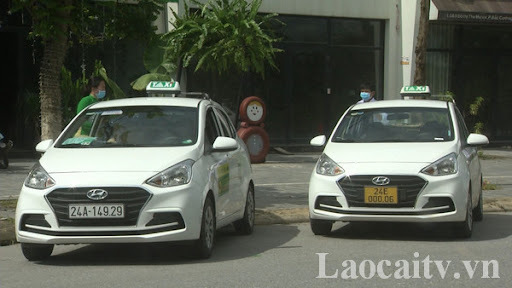number_plate: (67, 204, 124, 220), (363, 185, 398, 204)
